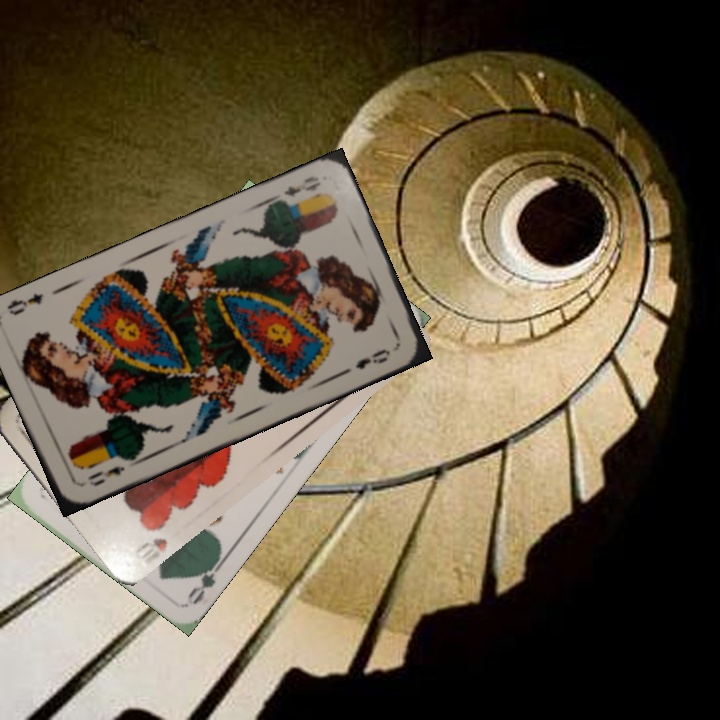EO: (279, 172, 324, 200), (83, 462, 127, 489)
GO: (183, 553, 228, 607)
H10: (130, 533, 171, 569)
